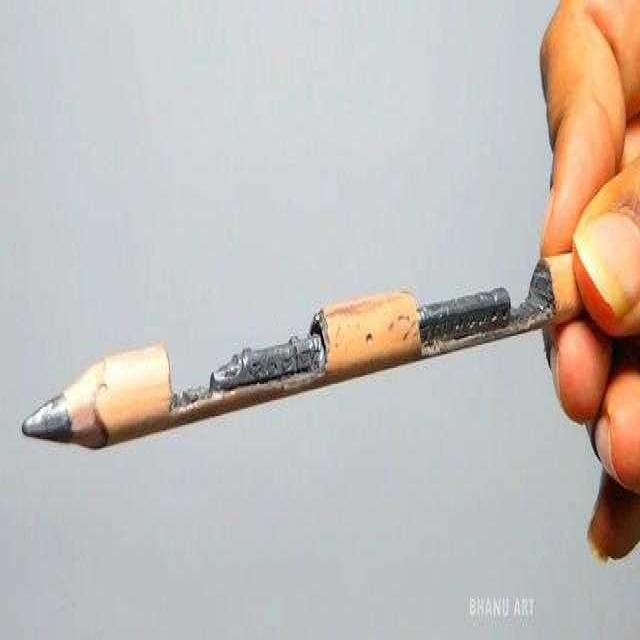pencil: (15, 210, 610, 479)
